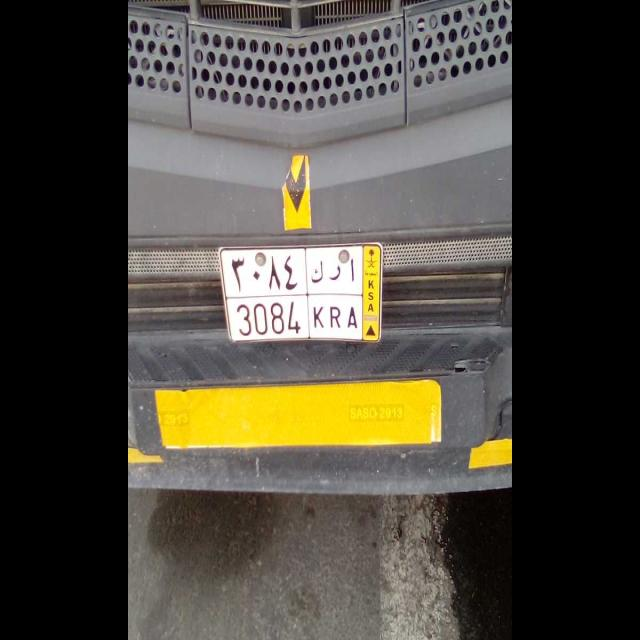license_plate: (225, 294, 365, 342)
